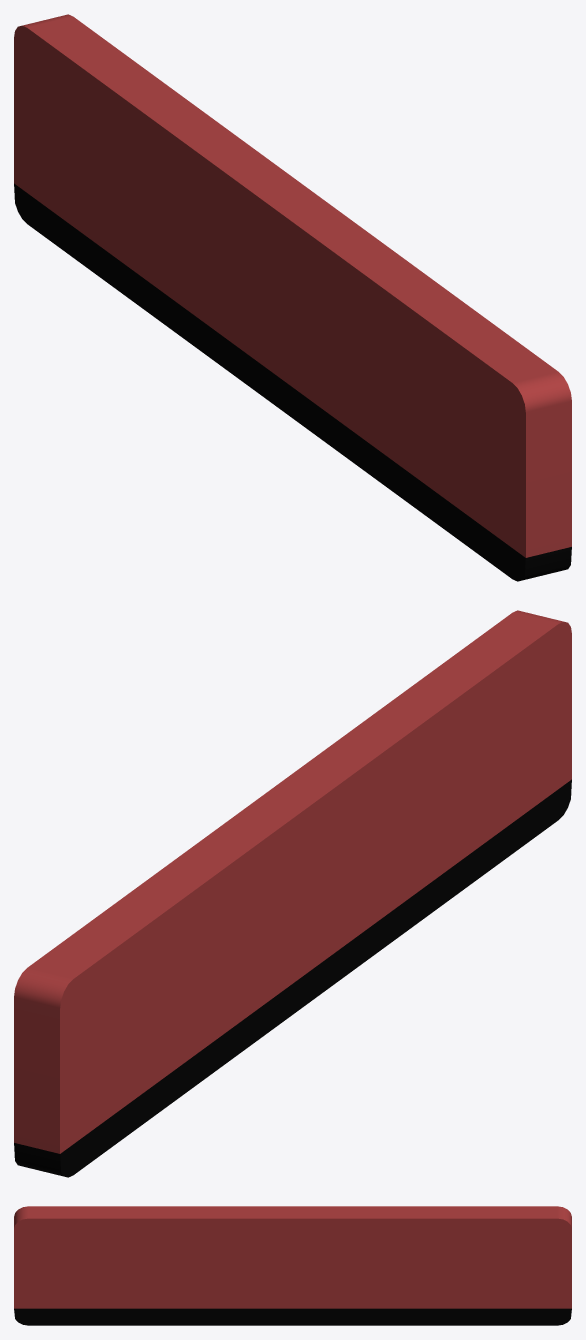
The model's file is wallx (1).fbx.
3 renders of one model, top to bottom at view 1: azimuth 30°, elevation 25°; view 2: azimuth 150°, elevation 25°; view 3: azimuth 270°, elevation 25°, orthographic. The views are drawn at different scales.
Parts seen in each view (by area): view 1: wall; view 2: wall; view 3: wall.
Boxes of the visible parts, bbox=[...] form: wall: bbox=[14, 14, 571, 581]; wall: bbox=[14, 610, 571, 1177]; wall: bbox=[14, 1206, 571, 1325].
Bounding box in the file's own units: 4.72 × 19.18 × 90.64.
